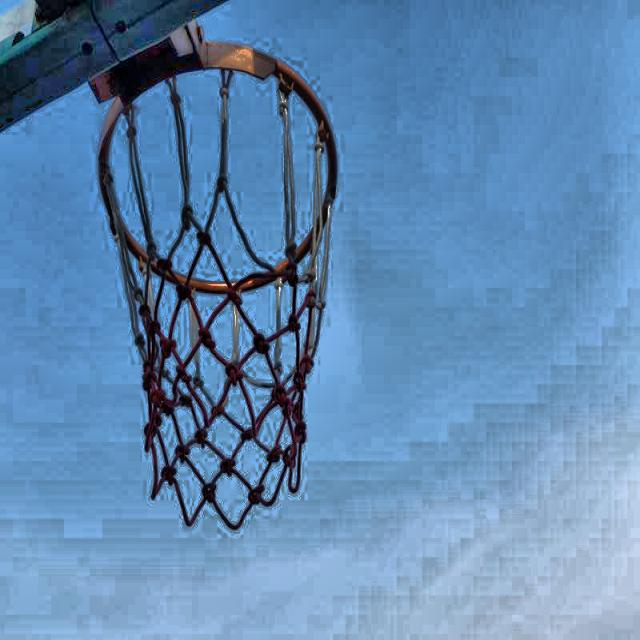rim: (100, 41, 337, 532)
